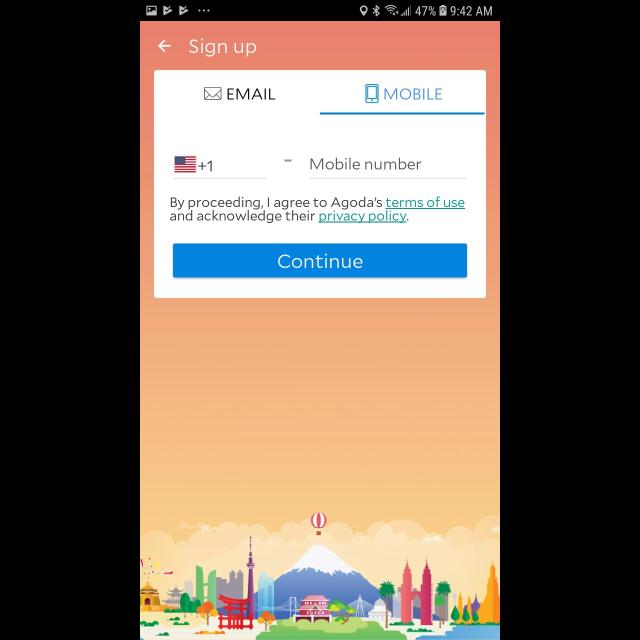backgroundimage: (140, 22, 500, 640)
icon: (204, 88, 222, 100), (158, 40, 172, 52)
image: (140, 512, 500, 640), (175, 156, 197, 172), (366, 85, 378, 104)
input: (309, 157, 467, 179), (174, 156, 268, 180)
text: (170, 196, 466, 224), (310, 158, 422, 170), (190, 38, 256, 58), (385, 88, 443, 100), (228, 88, 276, 100), (198, 160, 212, 172)
textbutton: (173, 244, 467, 278)
uppertaskbar: (140, 1, 500, 22)
